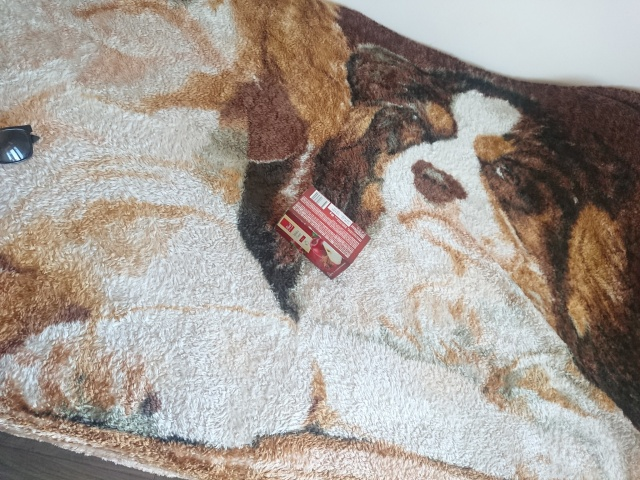Franck Apple Cinnamon Tea 60g: (271, 183, 372, 280)
